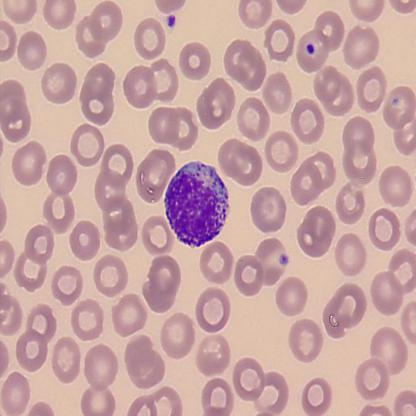Myelocyte: (163, 158, 229, 248)
